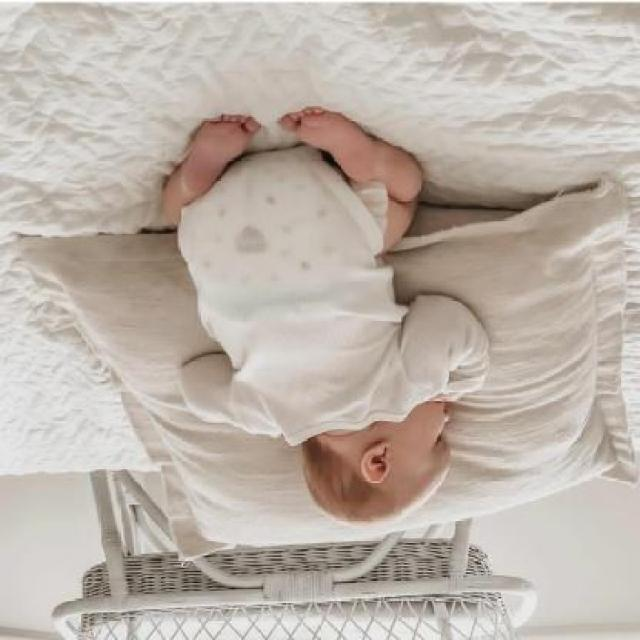baby: (162, 110, 492, 532)
